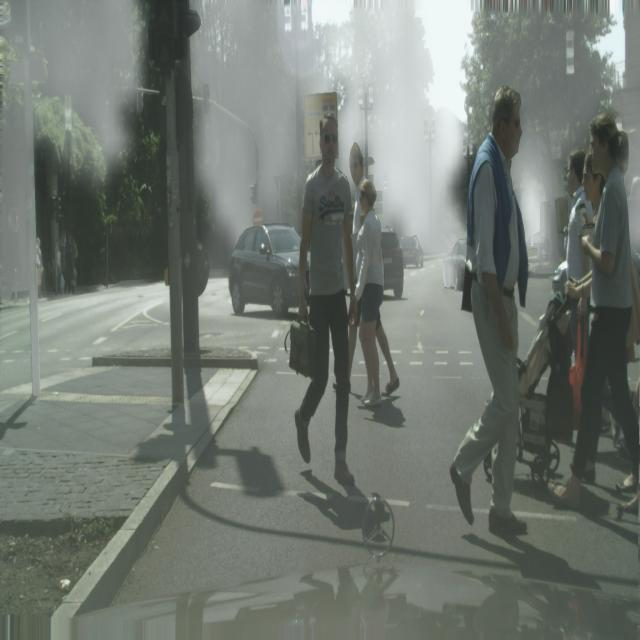person: (449, 84, 530, 541), (552, 114, 639, 509), (294, 115, 356, 487), (354, 180, 400, 406)
truck: (228, 219, 303, 317), (381, 227, 404, 299), (442, 237, 468, 291), (399, 234, 424, 268)
